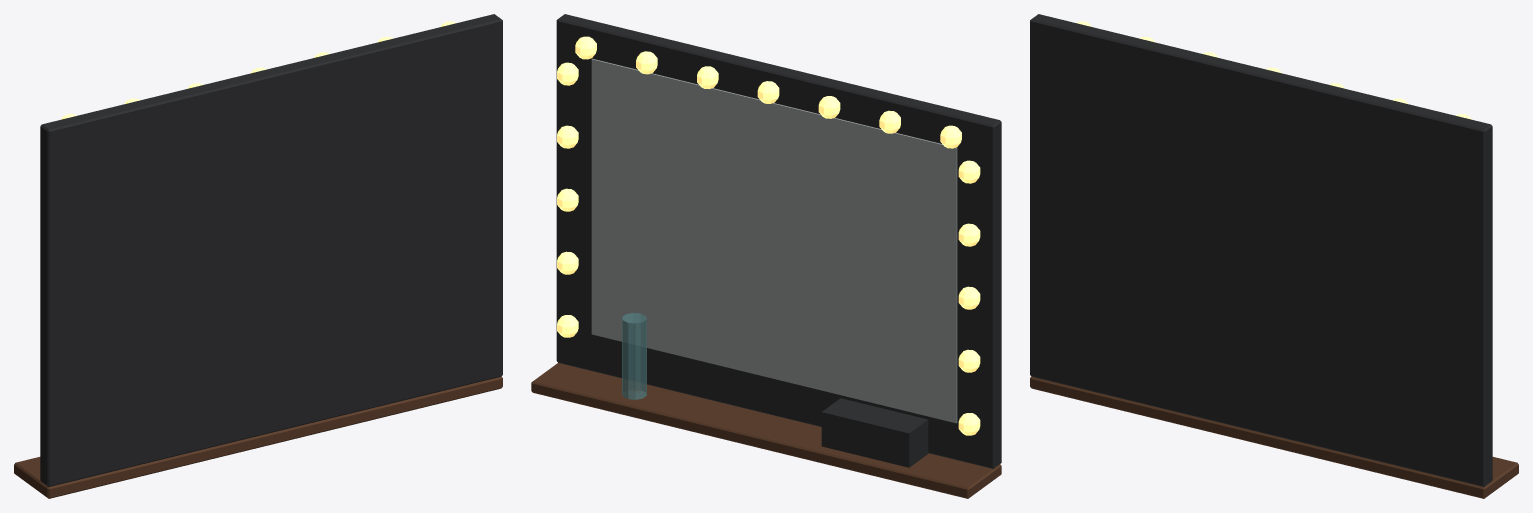
The model's file is prop_ah_bulb_mirror.glb.
3 views of the same model, side by side, from view 1: azimuth 30°, elevation 25°; view 2: azimuth 150°, elevation 25°; view 3: azimuth 330°, elevation 25° (orthographic). The views are drawn at different scales.
Visible parts, largest first — view 1: Body; view 2: Body; view 3: Body.
Boxes of the visible parts, box(x1,y1,x2,y2) form: Body: box(14, 14, 502, 498); Body: box(531, 14, 1001, 498); Body: box(1030, 14, 1518, 498).
Bounding box in the file's own units: 1.2 × 0.93 × 0.16.
